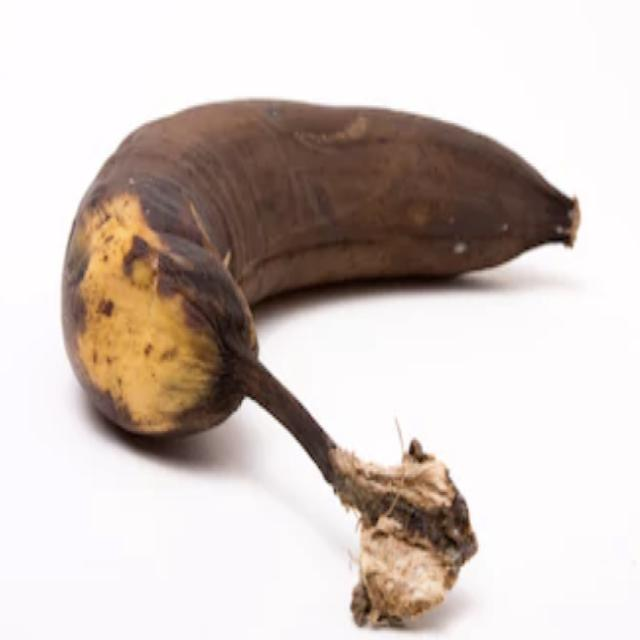rotten-banana: (57, 92, 583, 630)
